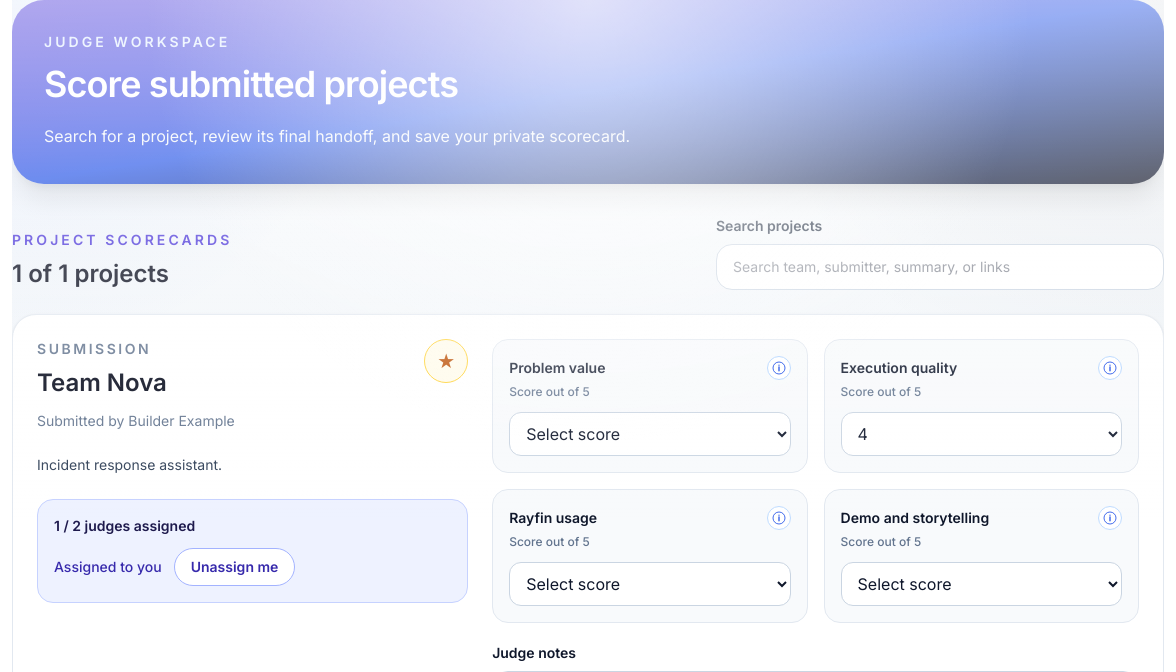
JudgingPage › confirms before unassigning and resets the saved judging entry
Click the button "Unassign me" at (235,567), box [174, 548, 295, 586]
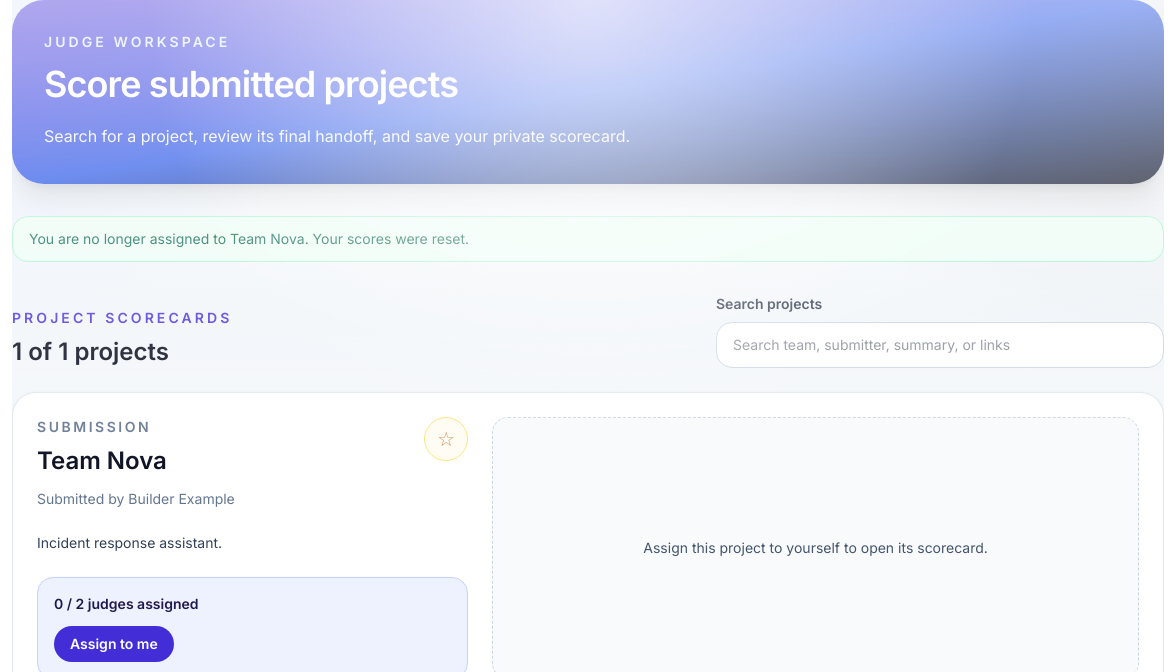
Expected: the button "Assign to me" is shown, [54, 626, 174, 662]
Expected: no dropdowns are shown
